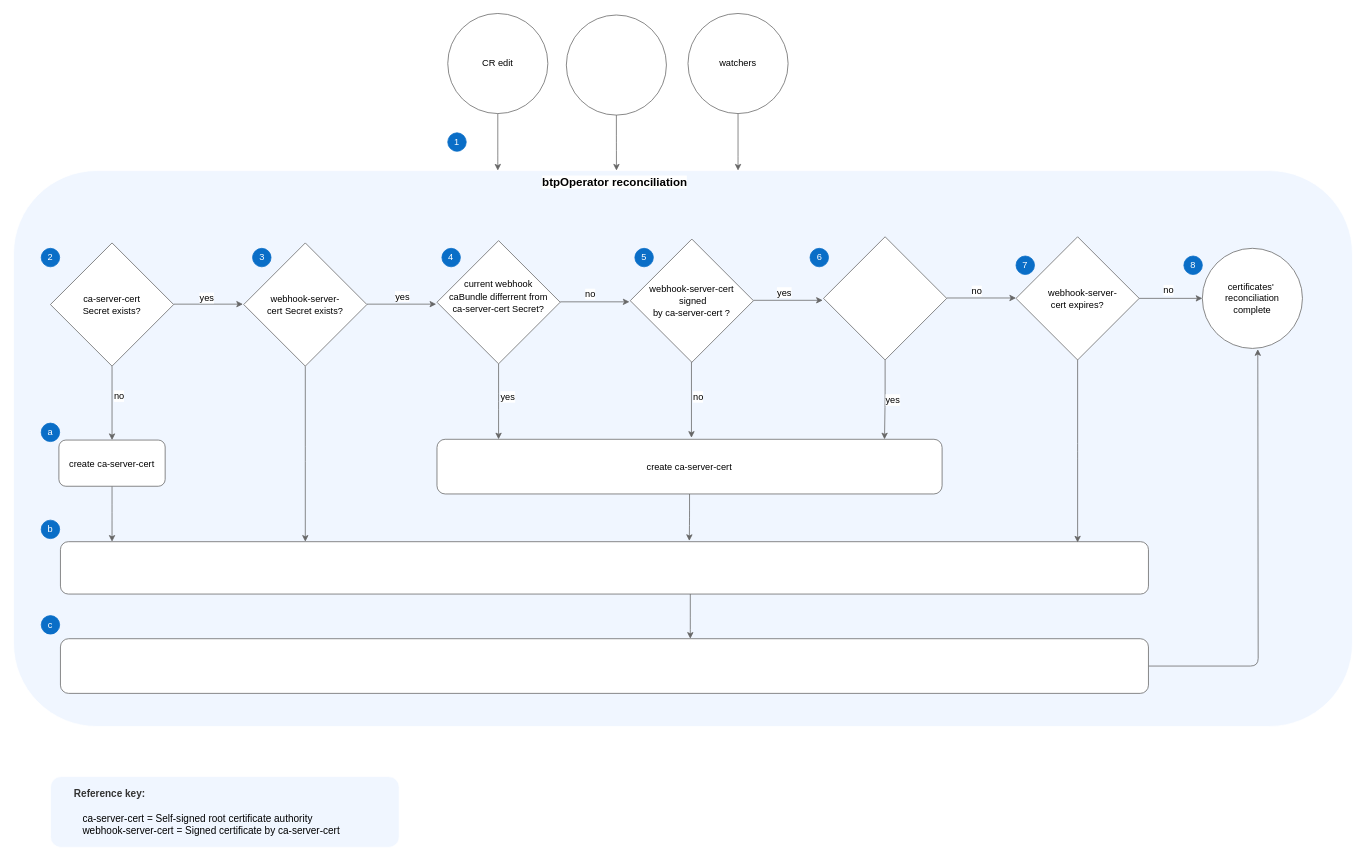
This 1366x861 diagram has some shape labels left out. The shapes that lost their labels are listed below. From the top down, each one's centre as x and y in pixels, then its label:
pixel 616 64: scheduled execution
pixel 885 298: ca-server-cert expires?
pixel 604 567: create webhook-server-cert Secret
pixel 604 665: set Webhooks' caBundle to cert from ca-server-cert Secret
